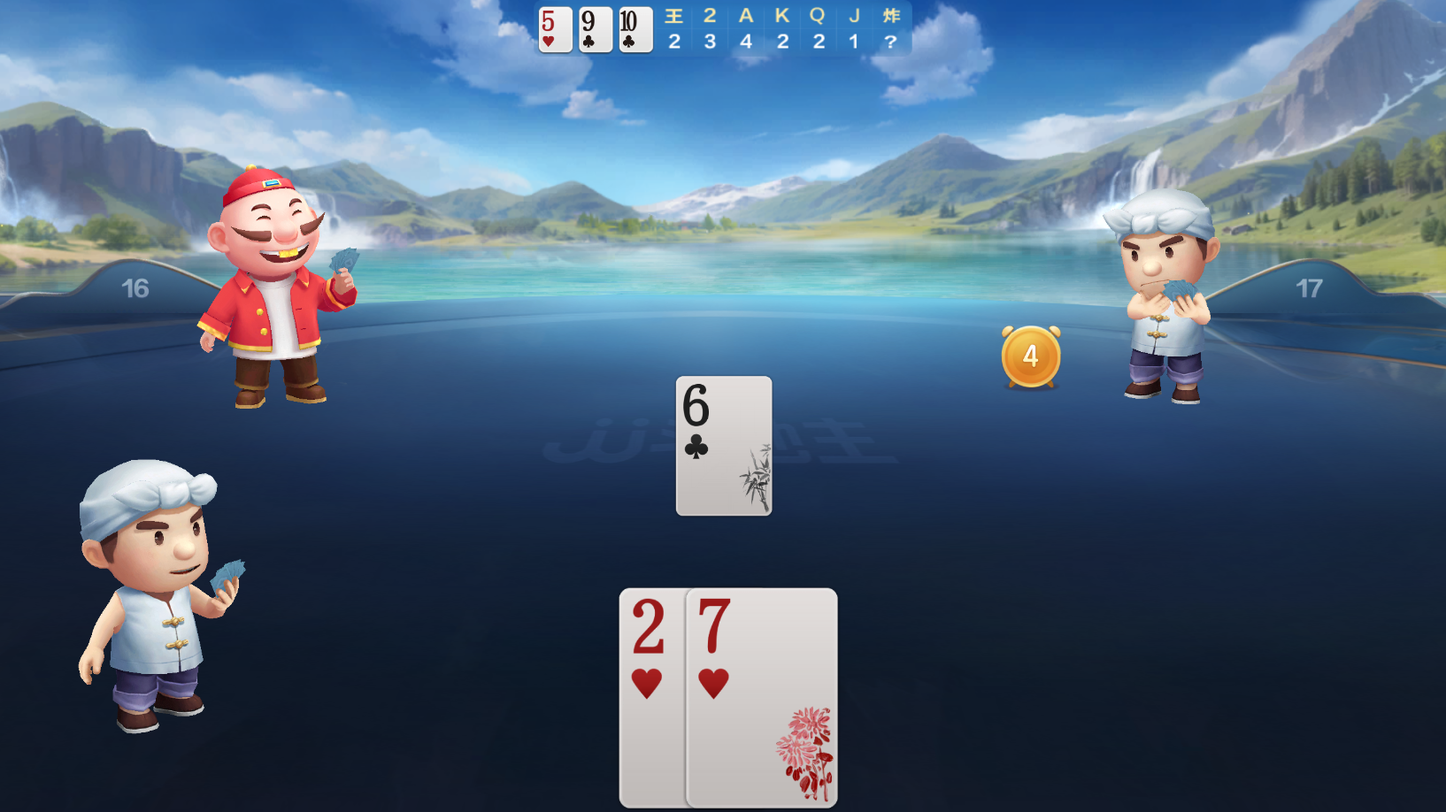five: (537, 6, 562, 35)
nine: (577, 6, 602, 35)
seven: (690, 593, 741, 659)
six: (676, 377, 723, 433)
ten: (617, 6, 641, 35)
two: (623, 595, 678, 660)
